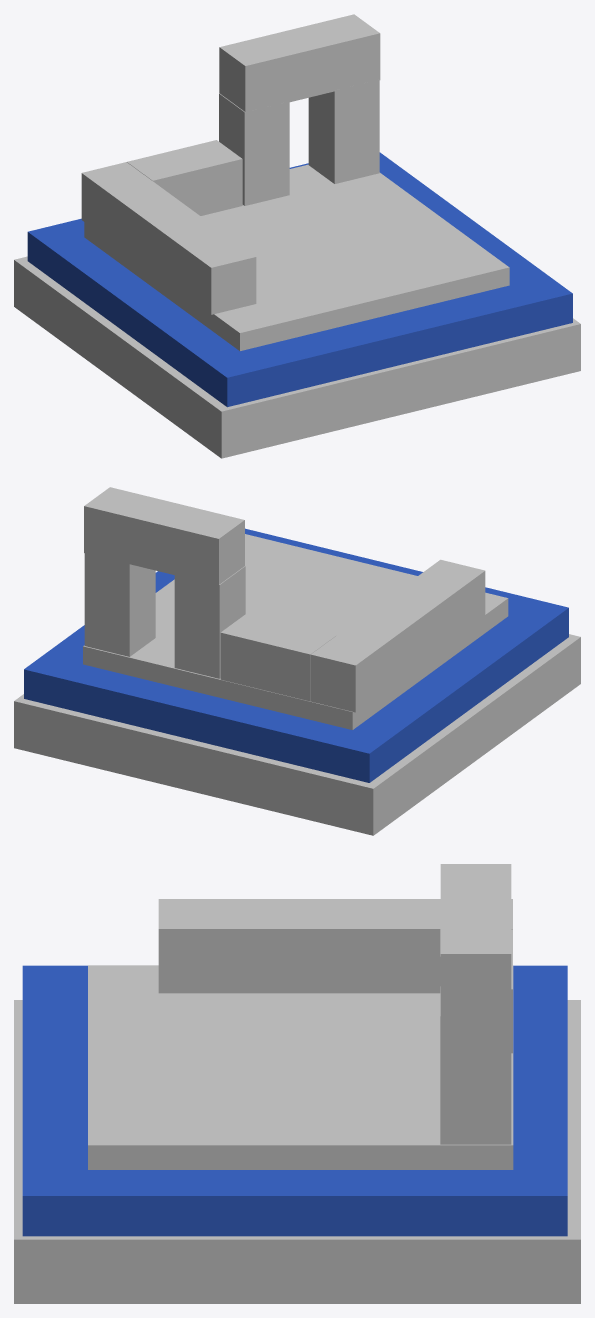
3 renders of one model, top to bottom at view 1: azimuth 30°, elevation 25°; view 2: azimuth 150°, elevation 25°; view 3: azimuth 270°, elevation 25°, orthographic. The views are drawn at different scales.
Visible parts, largest first — view 1: 平面, Cube.002, Cube.005, Cube.003, Cube.011, Cube.016, Cube.001; view 2: 平面, Cube.005, Cube.002, Cube.003, Cube.011, Cube.016, Cube.001; view 3: Cube.002, 平面, Cube.005, Cube.003, Cube.016, Cube.011.
Boxes of the visible parts, box(x1,y1,x2,y2) form: 平面: box(27, 152, 572, 407); Cube.002: box(84, 164, 509, 350); Cube.005: box(14, 256, 580, 458); Cube.003: box(81, 162, 256, 314); Cube.011: box(219, 79, 379, 205); Cube.016: box(219, 14, 380, 111); Cube.001: box(127, 140, 242, 215); 平面: box(24, 528, 568, 782); Cube.005: box(14, 634, 580, 835); Cube.002: box(83, 534, 508, 729); Cube.003: box(310, 559, 485, 712); Cube.011: box(84, 553, 245, 678); Cube.016: box(84, 487, 244, 585); Cube.001: box(220, 613, 336, 701); Cube.002: box(88, 965, 513, 1169); 平面: box(22, 965, 567, 1236); Cube.005: box(14, 1000, 580, 1303); Cube.003: box(158, 899, 512, 993); Cube.016: box(440, 864, 511, 1018); Cube.011: box(440, 927, 511, 1144).
Bounding box in the file's own units: 1600 × 997 × 1600.
